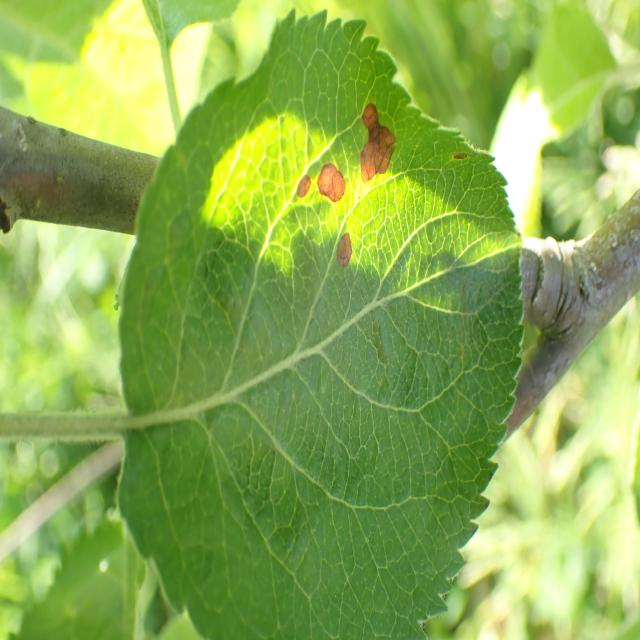Black Rot: (353, 96, 399, 184), (315, 139, 344, 217), (335, 228, 363, 285), (291, 155, 314, 223), (439, 131, 470, 168)
